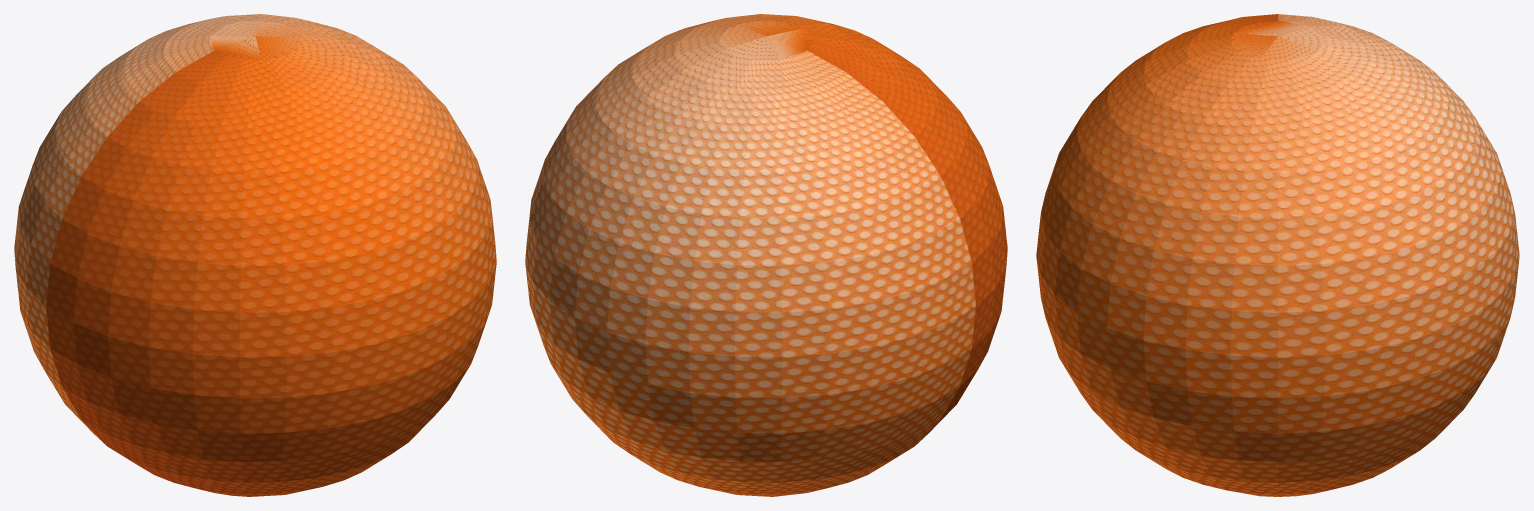
File: unit_sphere.obj
The picture shows the model from 3 angles, left to right: view 1: azimuth 30°, elevation 25°; view 2: azimuth 150°, elevation 25°; view 3: azimuth 270°, elevation 25°; orthographic projection.
Parts seen in each view (by area): view 1: Sphere; view 2: Sphere; view 3: Sphere.
Part boxes in pixels (x1,y1,x2,y2): Sphere: [14, 14, 496, 496]; Sphere: [525, 14, 1007, 496]; Sphere: [1036, 14, 1519, 496].
Size of the model in its own units: 2 by 2 by 2.
Materials: 1 (1 with a texture image).
